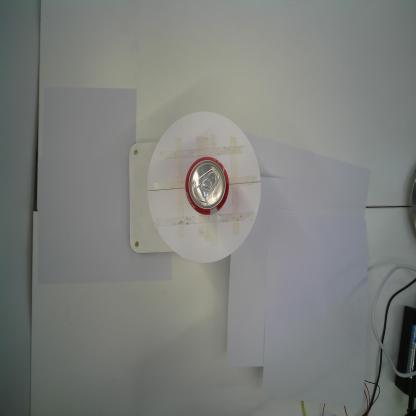Drink: (184, 155, 231, 217)
